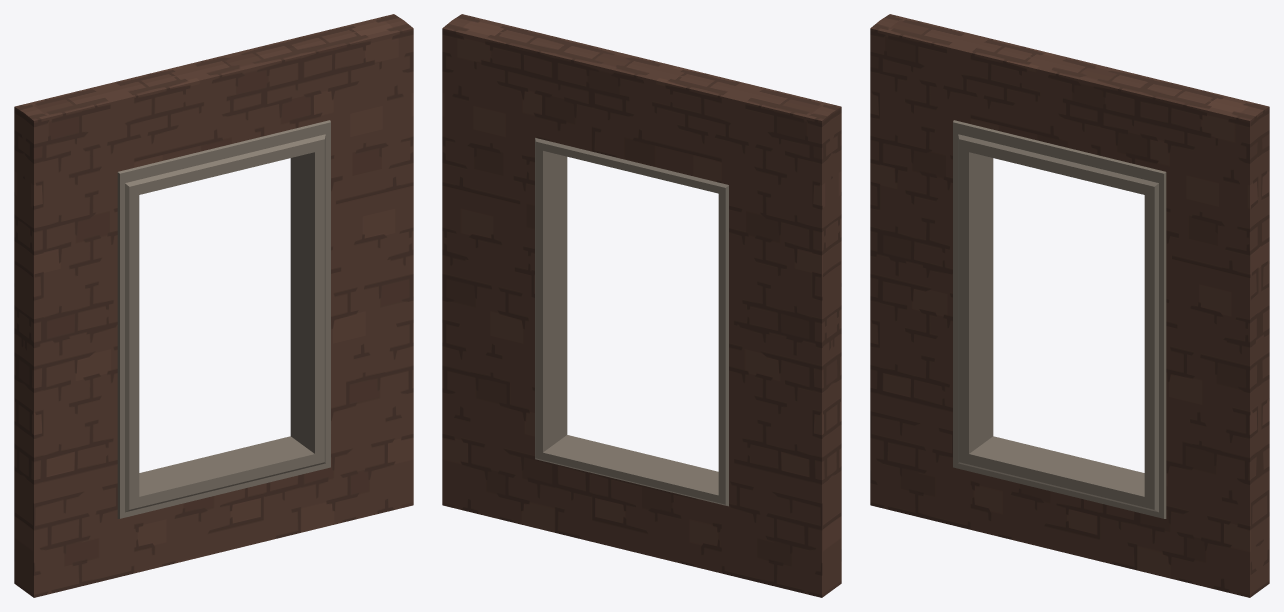
File: SM_Bld_Wall_Window_Grid_01.obj
The picture shows the model from 3 angles, left to right: view 1: azimuth 30°, elevation 25°; view 2: azimuth 150°, elevation 25°; view 3: azimuth 330°, elevation 25°; orthographic projection.
Visible parts, largest first — view 1: SM_Bld_Wall_Window_Grid_01_2, SM_Bld_Wall_Window_Grid_01_0, SM_Bld_Wall_Window_Grid_01_1; view 2: SM_Bld_Wall_Window_Grid_01_1, SM_Bld_Wall_Window_Grid_01_0, SM_Bld_Wall_Window_Grid_01_2; view 3: SM_Bld_Wall_Window_Grid_01_2, SM_Bld_Wall_Window_Grid_01_0, SM_Bld_Wall_Window_Grid_01_1.
Part boxes in pixels (box(x1,y1,x2,y2)): SM_Bld_Wall_Window_Grid_01_2: box(24, 20, 413, 597); SM_Bld_Wall_Window_Grid_01_0: box(117, 120, 330, 518); SM_Bld_Wall_Window_Grid_01_1: box(14, 14, 403, 590); SM_Bld_Wall_Window_Grid_01_1: box(442, 20, 831, 597); SM_Bld_Wall_Window_Grid_01_0: box(535, 138, 728, 506); SM_Bld_Wall_Window_Grid_01_2: box(452, 14, 841, 590); SM_Bld_Wall_Window_Grid_01_2: box(870, 20, 1259, 597); SM_Bld_Wall_Window_Grid_01_0: box(953, 120, 1166, 518); SM_Bld_Wall_Window_Grid_01_1: box(880, 14, 1269, 590).
Size of the model in its own units: 2.5 by 3.01 by 0.2773.
3 materials, 3 textured.
